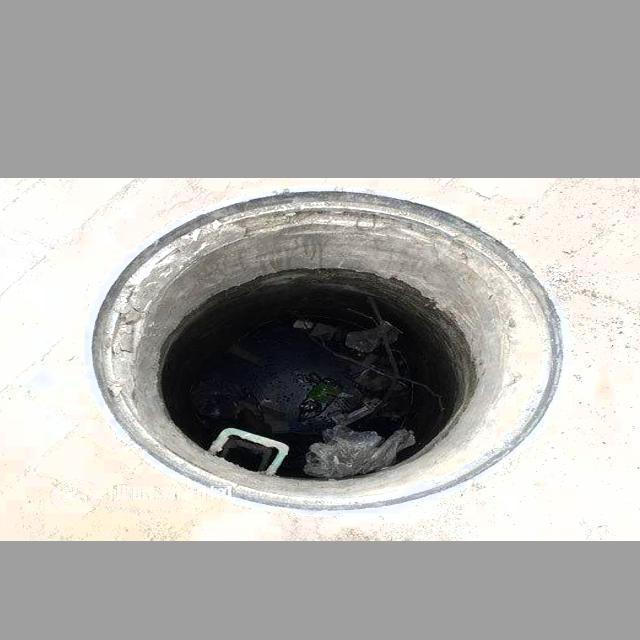lose: (82, 183, 575, 511)
